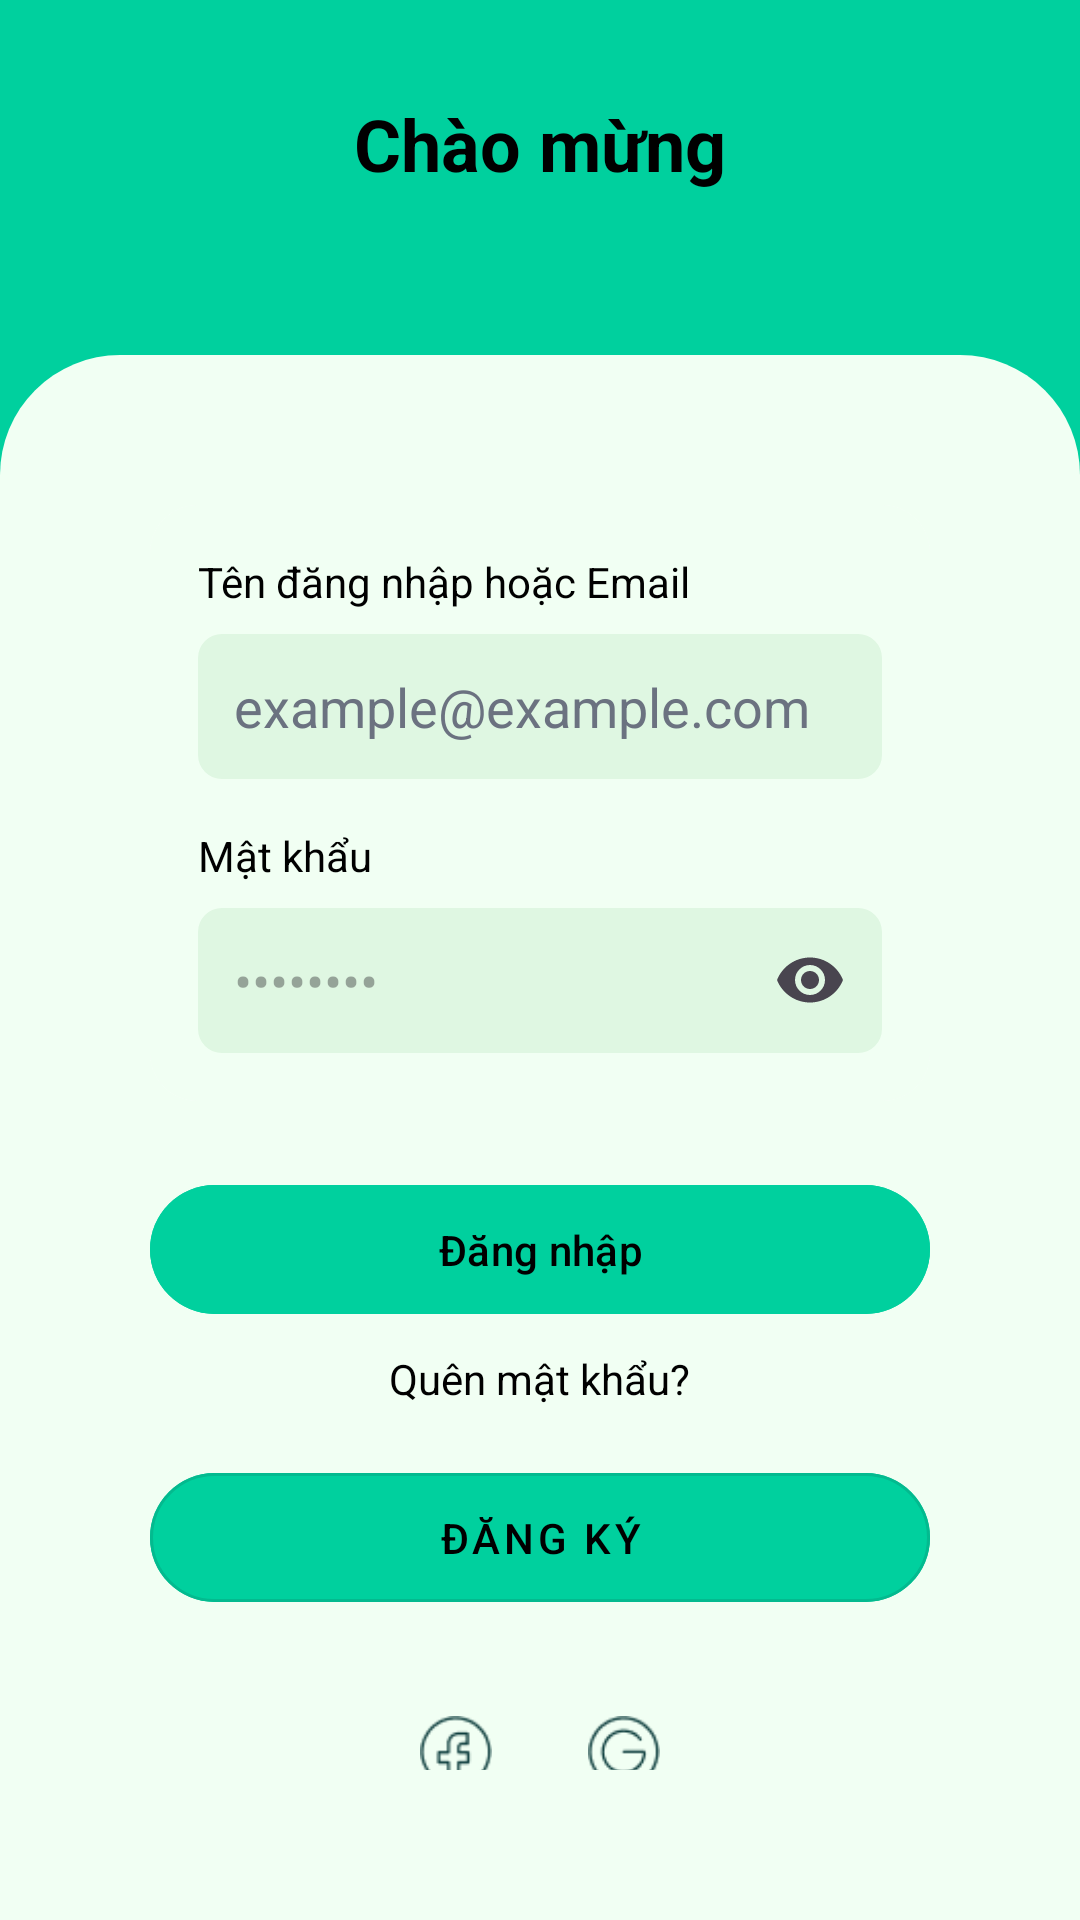

Icons on this 1080×1920 Android screen, each with its box as (x1, y1, x2, y2):
visibility: (777, 957, 843, 1003)
